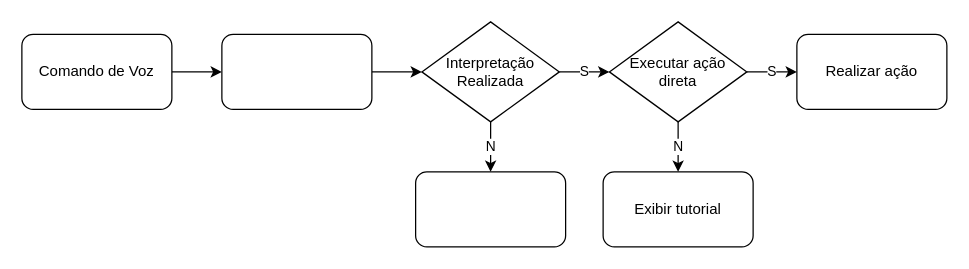
This 969x269 diagram has some shape labels left out. The shapes that lost their labels are listed below. From the top down, each one's centre as x and y in pixels, then its label:
At (296,71): "Interpretação das Palavras".
At (490,209): "Retornar solicitação de repetição".
